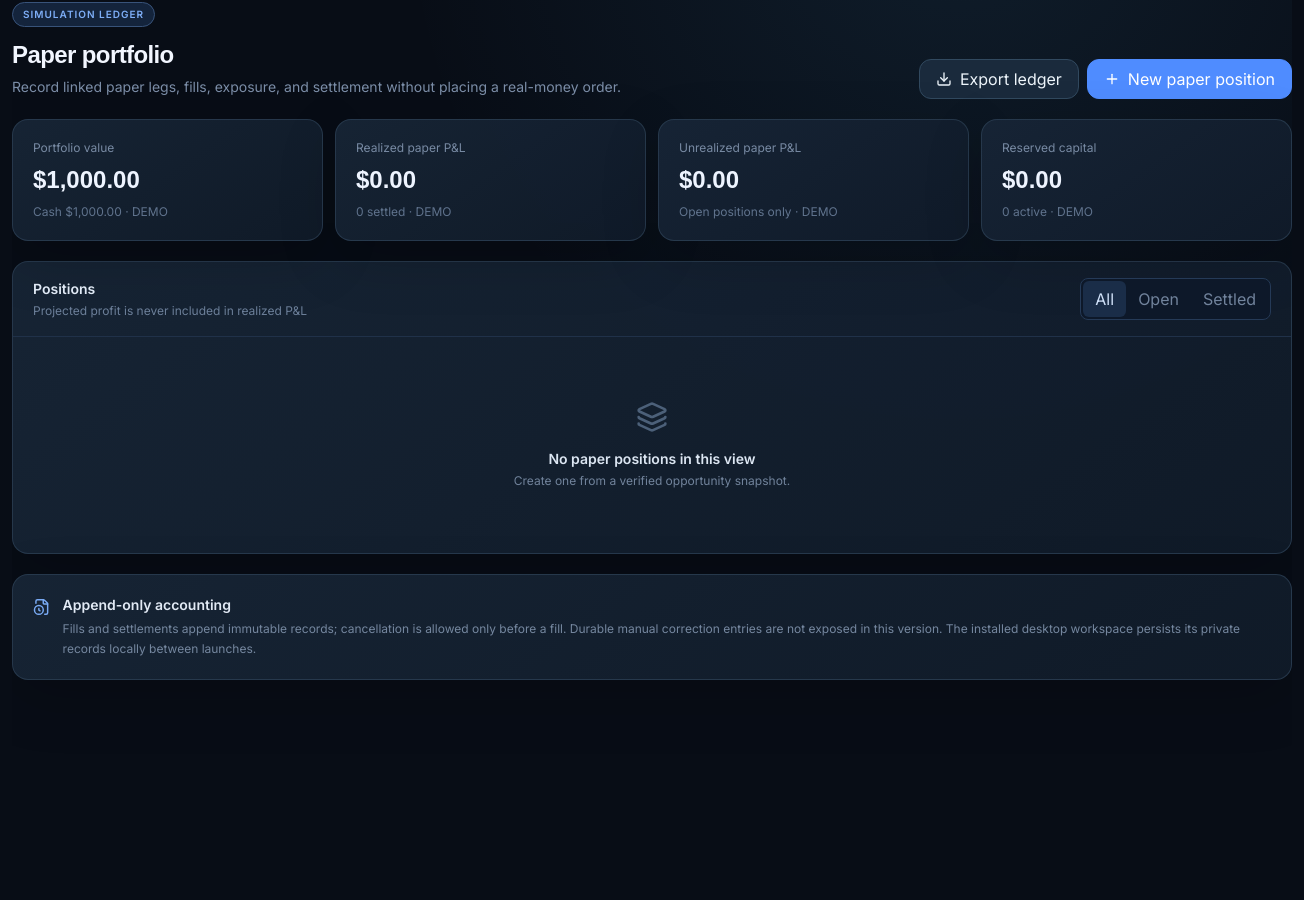
Test case: paper-ledger export feedback › describes a desktop export as awaiting the native save dialog
The width and height of the screenshot is (1304, 900).
Click the button "Export ledger".
click(999, 79)  # box 919,59 -> 1079,99
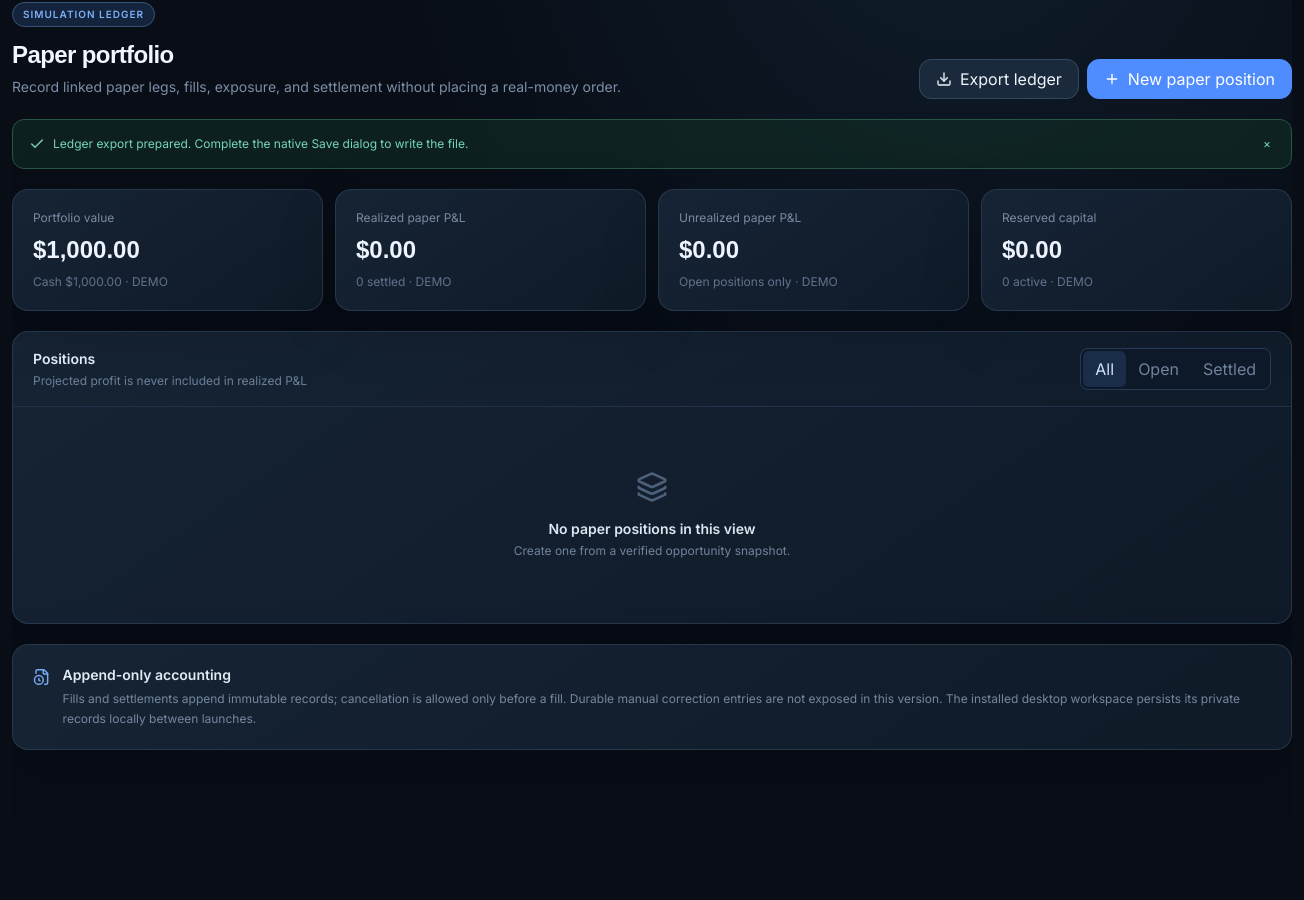
Expected: the message reads "Ledger export prepared. Complete the native Save dialog to write the file. ×", 53,136 -> 468,151
